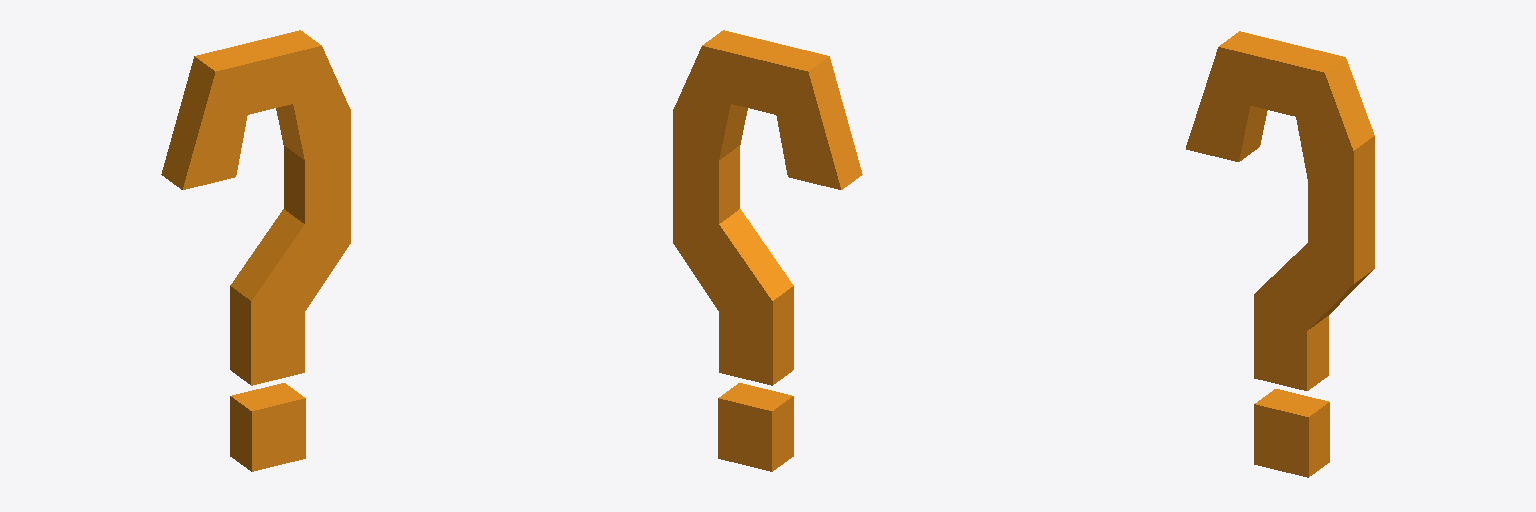
The picture shows the model from 3 angles: view 1: azimuth 30°, elevation 25°; view 2: azimuth 150°, elevation 25°; view 3: azimuth 330°, elevation 25°; orthographic projection.
Parts seen in each view (by area): view 1: QuestionMark; view 2: QuestionMark; view 3: QuestionMark.
Part boxes in pixels (x1,y1,x2,y2): QuestionMark: (161, 30, 350, 471); QuestionMark: (673, 30, 862, 471); QuestionMark: (1186, 31, 1374, 477).
Bounding box in the file's own units: 0.43 × 0.9988 × 0.0941.
Materials: 1 (1 with a texture image).